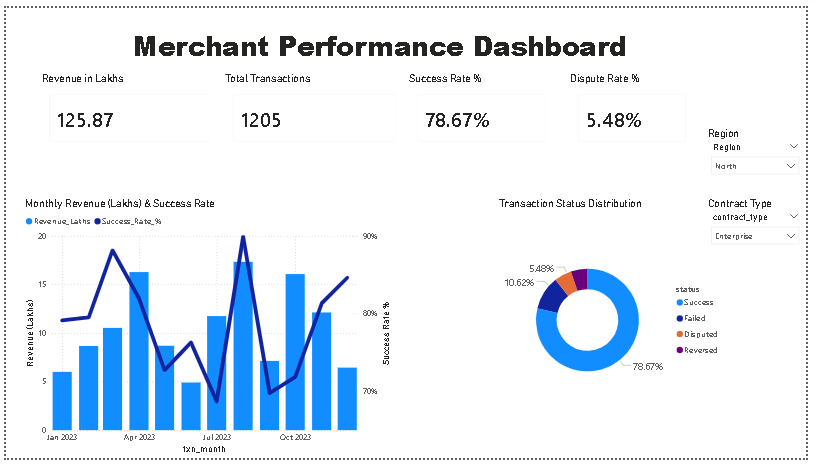

What the dashboard file says about the page in this screenshot:
{"tool":"powerbi","page":{"name":"Page 1","canvas":[1280,720],"ordinal":0},"visuals":[{"type":"cardVisual","title":"Revenue in Lakhs","fields":{"Data":["Fact_Transactions.Revenue_Lakhs"]},"box":[52.9,101.4,292.9,130],"z":0},{"type":"cardVisual","title":"Total Transactions","fields":{"Data":["Fact_Transactions.Total_Txns_Display"]},"box":[345.7,101.4,294.3,130],"z":1000},{"type":"cardVisual","title":"Success Rate %","fields":{"Data":["Fact_Transactions.Success_Rate_%"]},"box":[640,101.4,240,130],"z":2000},{"type":"cardVisual","title":"Dispute Rate %","fields":{"Data":["Fact_Transactions.Dispute_Rate_%"]},"box":[897.1,101.4,207.1,130],"z":3000},{"type":"lineClusteredColumnComboChart","title":"Monthly Revenue (Lakhs) & Success Rate","fields":{"Category":["Fact_Transactions.txn_month"],"Y":["Fact_Transactions.Revenue_Lakhs"],"Y2":["Fact_Transactions.Success_Rate_%"]},"box":[25.7,302.9,594.3,417.1],"z":4000},{"type":"donutChart","title":"Transaction Status Distribution","fields":{"Category":["Fact_Transactions.status"],"Y":["Fact_Transactions.Total_Txns"]},"box":[784.3,302.9,370,375.7],"z":5000},{"type":"slicer","title":"Region","fields":{"Values":["Fact_Transactions.region"]},"box":[1118.6,190,161.4,112.9],"z":6000},{"type":"slicer","title":"Contract Type","fields":{"Values":["Merchant_Scorecard.contract_type"]},"box":[1118.6,302.9,161.4,111.4],"z":7000},{"type":"textbox","box":[198.6,24.3,801.4,77.1],"z":8000}]}

Visuals, with their boxes in screenshot pixels (x1, y1, x2, y2), scaled from the page's 1280x720 canvas onto the 816x464 screenshot:
"Revenue in Lakhs" cardVisual: 34,65,220,149
"Total Transactions" cardVisual: 220,65,408,149
"Success Rate %" cardVisual: 408,65,561,149
"Dispute Rate %" cardVisual: 572,65,704,149
"Monthly Revenue (Lakhs) & Success Rate" lineClusteredColumnComboChart: 16,195,395,463
"Transaction Status Distribution" donutChart: 500,195,736,437
"Region" slicer: 713,122,815,195
"Contract Type" slicer: 713,195,815,267
textbox: 127,16,638,65
